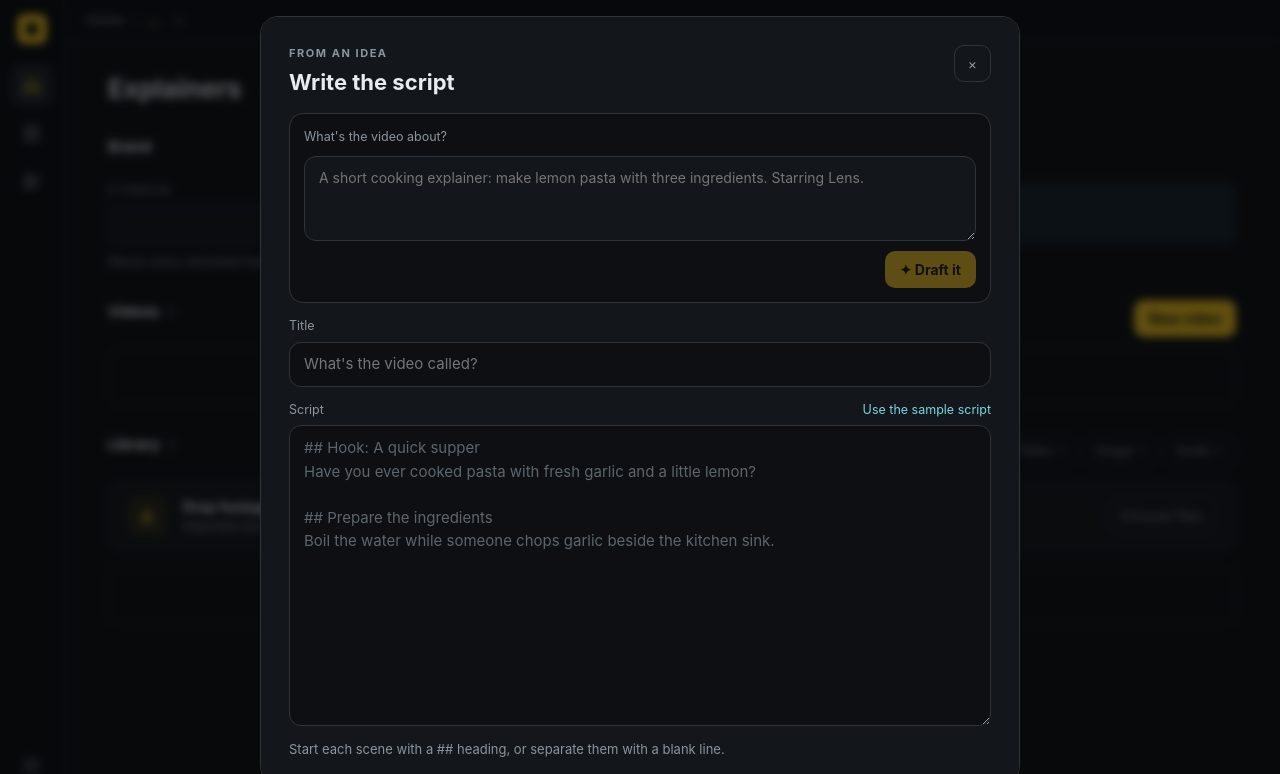
Test: From an idea: ✦ Draft it › allows a re-draft: an untouched (AI-authored) title refreshes along with the script
Replace the text in the text box labelled "What's the video about?" with "an idea" at {"x": 640, "y": 199}, box [304,156,976,241]
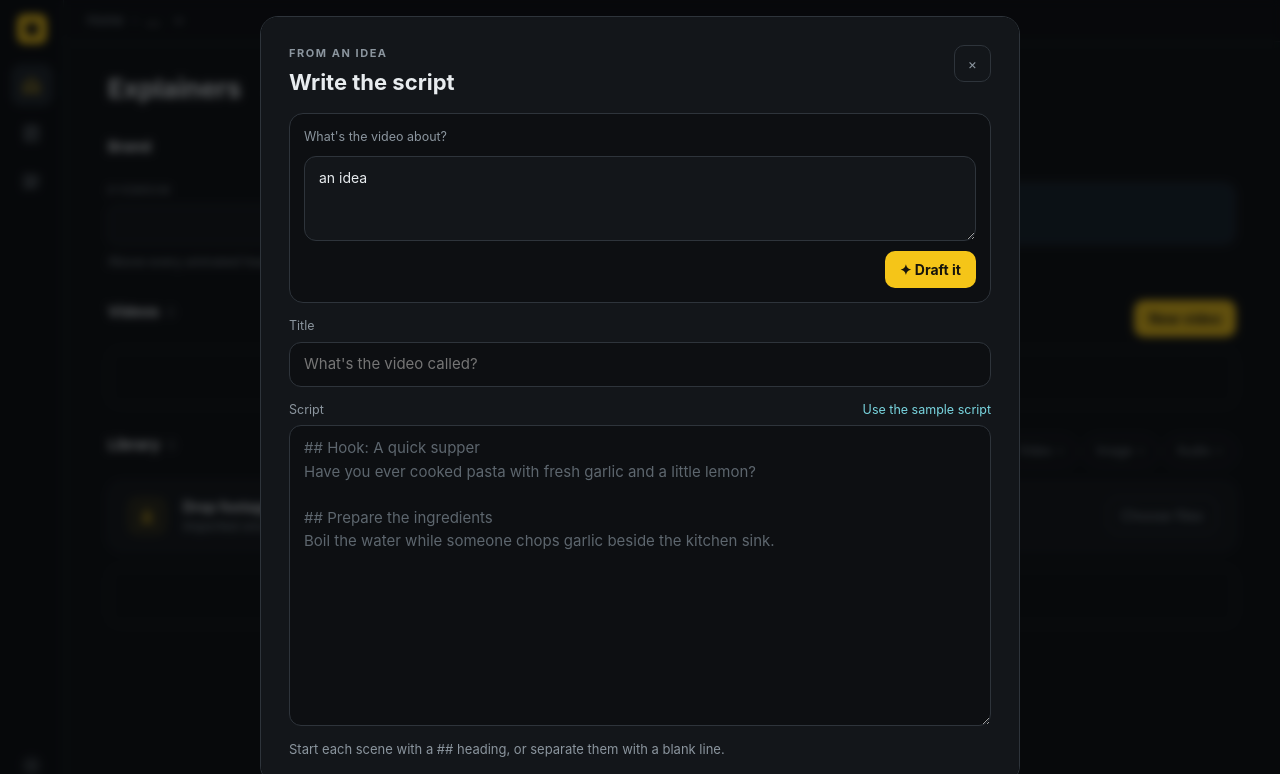
Click the button "✦ Draft it".
click(930, 270)  # box [885,251,976,288]
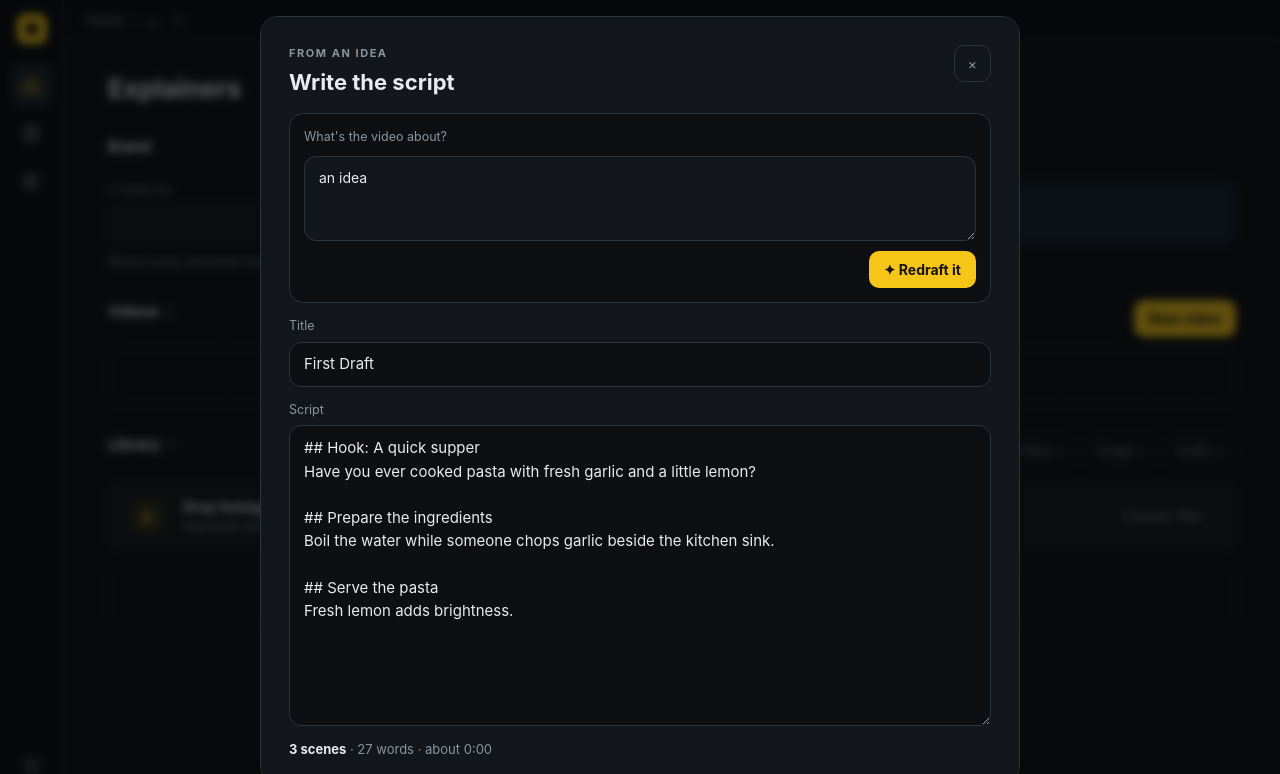
Now the field labelled "Title" holds "First Draft", box [289,342,991,386]
Click the button "✦ Redraft it".
click(922, 270)  # box [869,251,976,288]
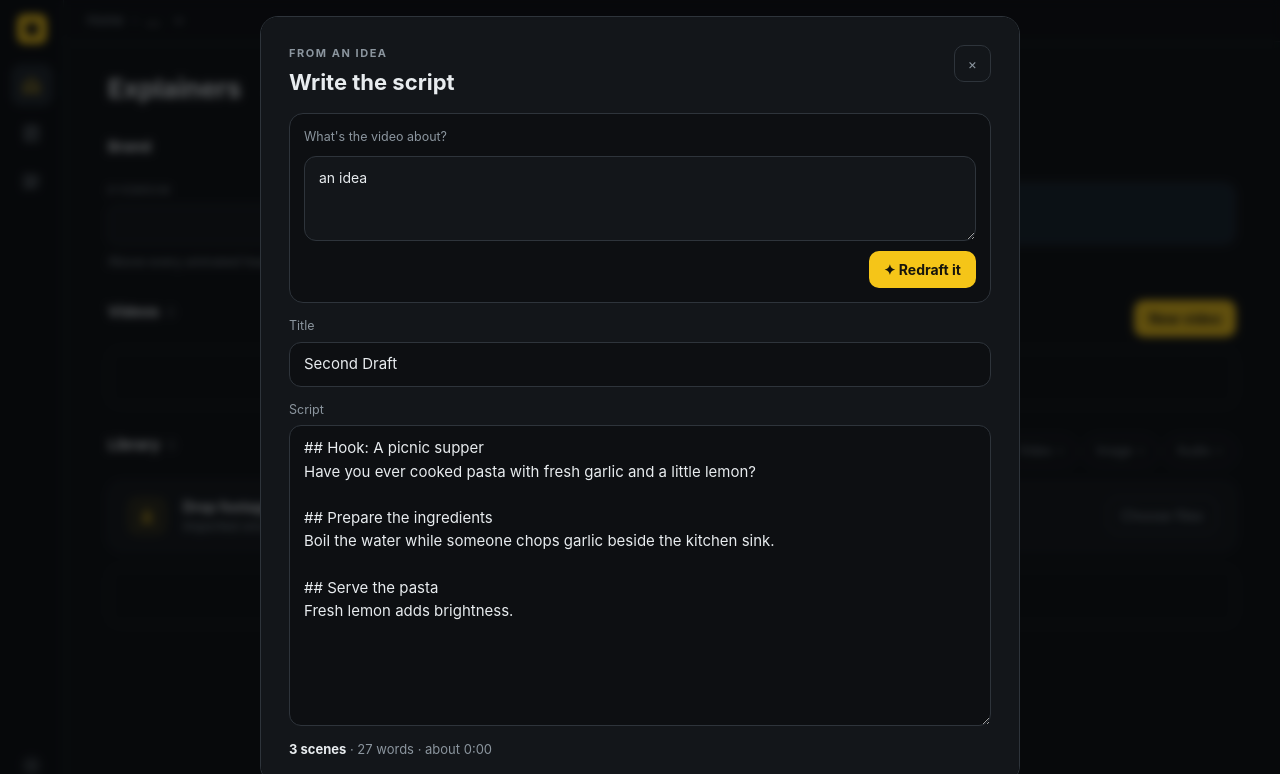
Now the field labelled "Title" holds "Second Draft", box [289,342,991,386]
